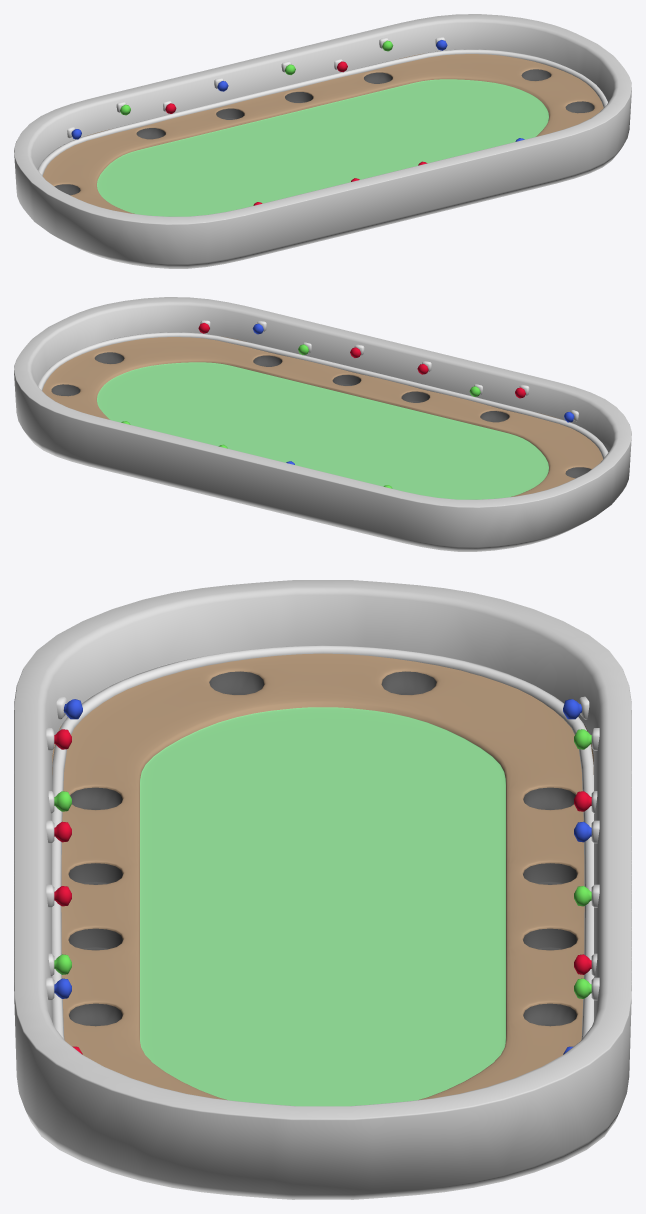
The model's file is gmtk_pokerTable.fbx.
The picture shows the model from 3 angles, top to bottom: view 1: azimuth 30°, elevation 25°; view 2: azimuth 150°, elevation 25°; view 3: azimuth 270°, elevation 25°; orthographic projection. The views are drawn at different scales.
Visible parts, largest first — view 1: PokerTable, Neon_Tubes, Neon_Bulbs, Neon_BulbHolders; view 2: PokerTable, Neon_Tubes, Neon_Bulbs, Neon_BulbHolders; view 3: PokerTable, Neon_Tubes, Neon_Bulbs, Neon_BulbHolders.
Part boxes in pixels (bbox=[...]): PokerTable: bbox=[14, 14, 631, 268]; Neon_Tubes: bbox=[37, 49, 607, 175]; Neon_Bulbs: bbox=[71, 40, 524, 205]; Neon_BulbHolders: bbox=[67, 37, 445, 138]; PokerTable: bbox=[14, 297, 631, 551]; Neon_Tubes: bbox=[38, 332, 608, 458]; Neon_Bulbs: bbox=[121, 323, 574, 488]; Neon_BulbHolders: bbox=[200, 320, 578, 421]; PokerTable: bbox=[14, 580, 631, 1199]; Neon_Tubes: bbox=[52, 645, 593, 1039]; Neon_Bulbs: bbox=[54, 699, 591, 1054]; Neon_BulbHolders: bbox=[46, 696, 599, 1000].
Size of the model in its own units: 487 by 39.45 by 236.
